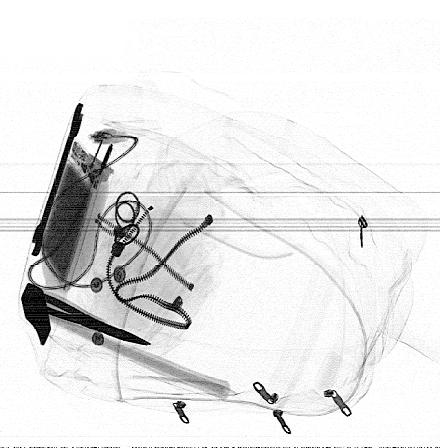Hammer: (20, 282, 231, 403)
Pliers: (19, 285, 151, 347)
Powerbank: (37, 137, 104, 293)
Wrench: (30, 102, 83, 258)
